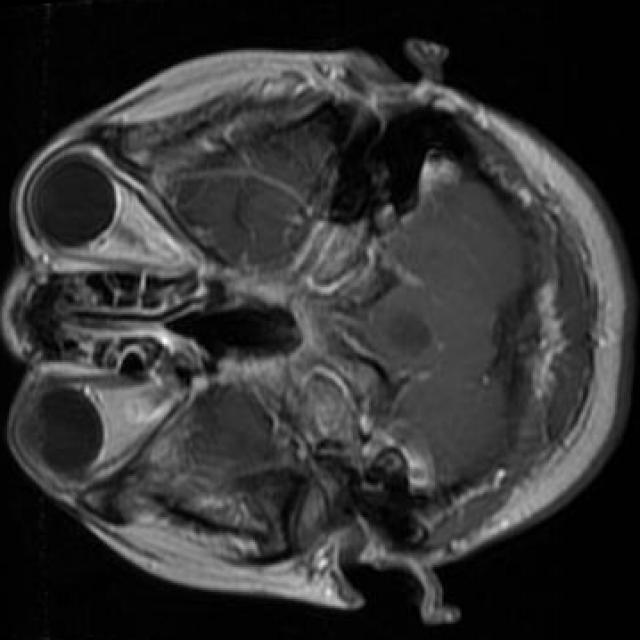glioma: (390, 314, 431, 358)
